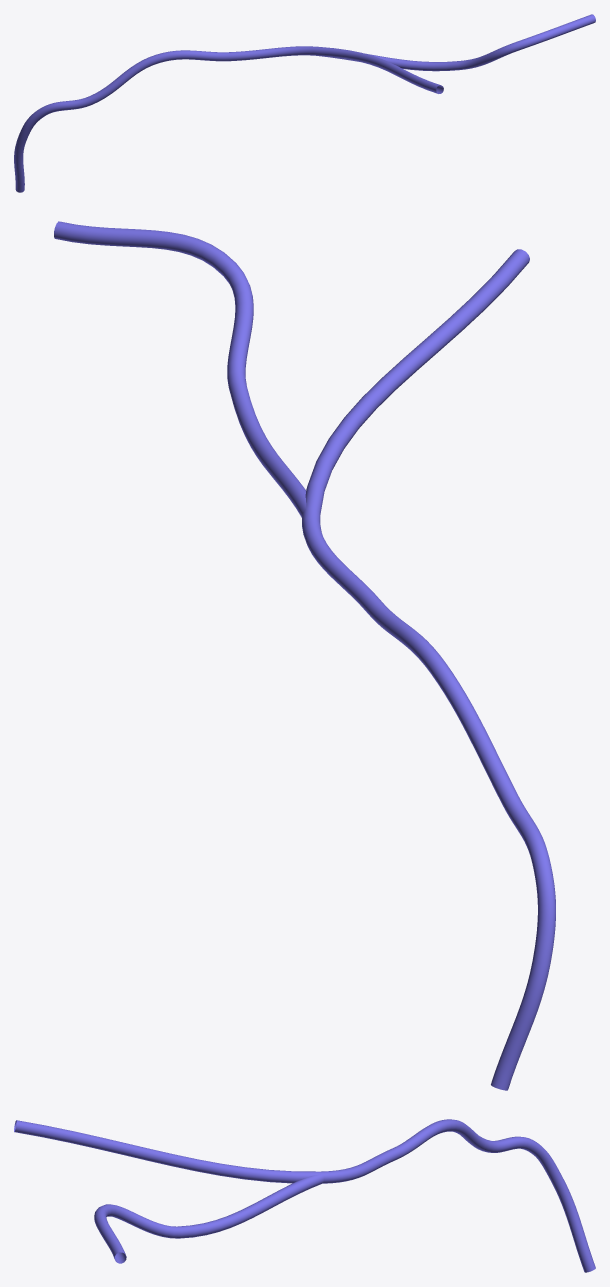
The model's file is Superior_petrosal_sinus.r_BezierCurve.471.glb.
3 views of the same model, one above another, from view 1: azimuth 30°, elevation 25°; view 2: azimuth 150°, elevation 25°; view 3: azimuth 270°, elevation 25° (orthographic). The views are drawn at different scales.
Parts seen in each view (by area): view 1: Superior_petrosal_sinus.r_BezierCurve.471; view 2: Superior_petrosal_sinus.r_BezierCurve.471; view 3: Superior_petrosal_sinus.r_BezierCurve.471.
Boxes of the visible parts, x1,y1,x2,y2 form: Superior_petrosal_sinus.r_BezierCurve.471: [14, 14, 595, 192]; Superior_petrosal_sinus.r_BezierCurve.471: [54, 221, 555, 1090]; Superior_petrosal_sinus.r_BezierCurve.471: [14, 1119, 595, 1272].
Size of the model in its own units: 0.0514 by 0.0254 by 0.0472.
